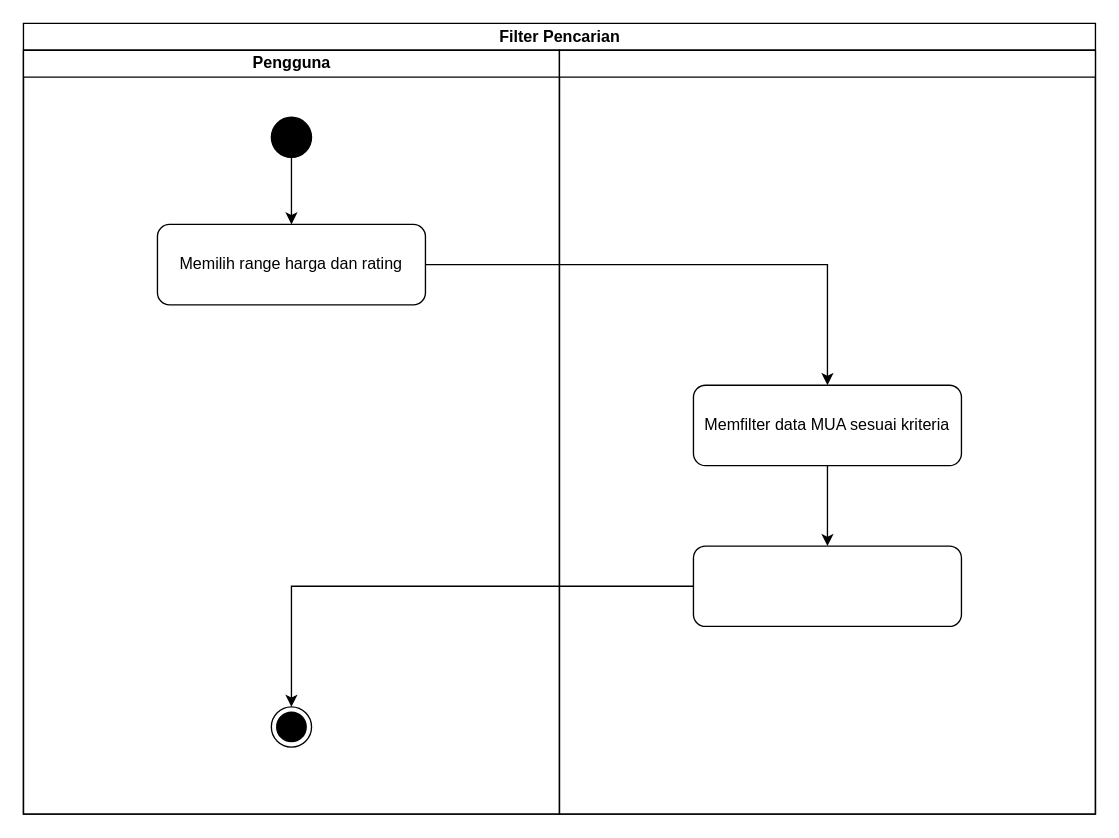
The diagram is 1119 pixels wide and 838 high, and some of its shapes have lost their labels. Each missing label, with the box of its shape:
Menampilkan hasil filter: (692, 545, 961, 626)
Sistem: (558, 49, 1095, 814)
